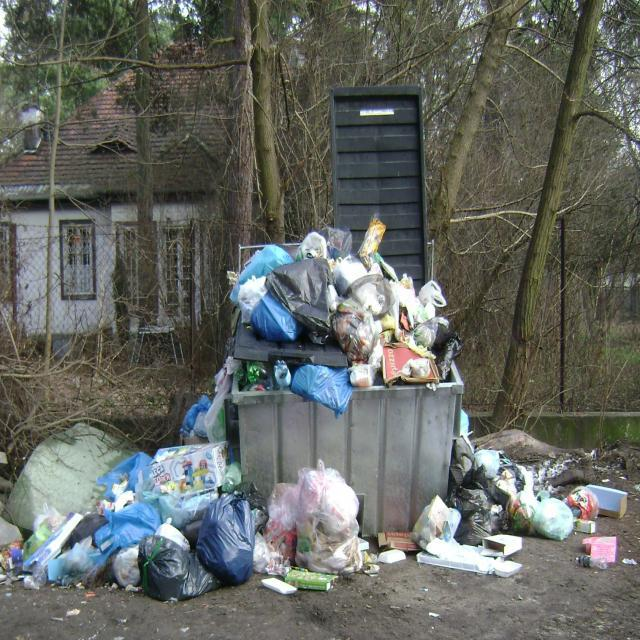garbage: (15, 447, 370, 589), (241, 250, 457, 385), (413, 444, 623, 559)
